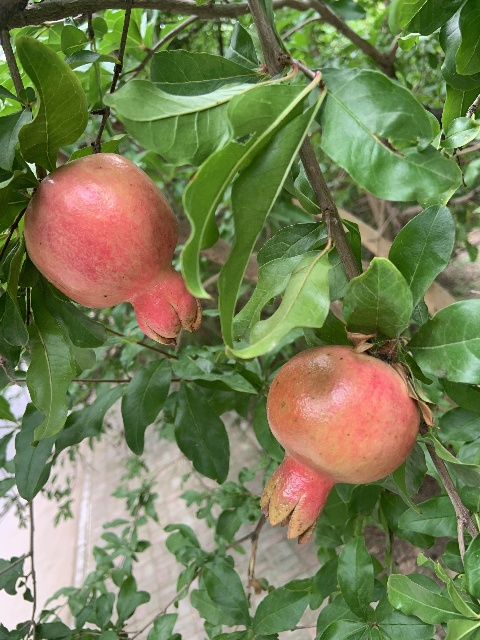ripe: (23, 152, 203, 343), (261, 343, 419, 543)
